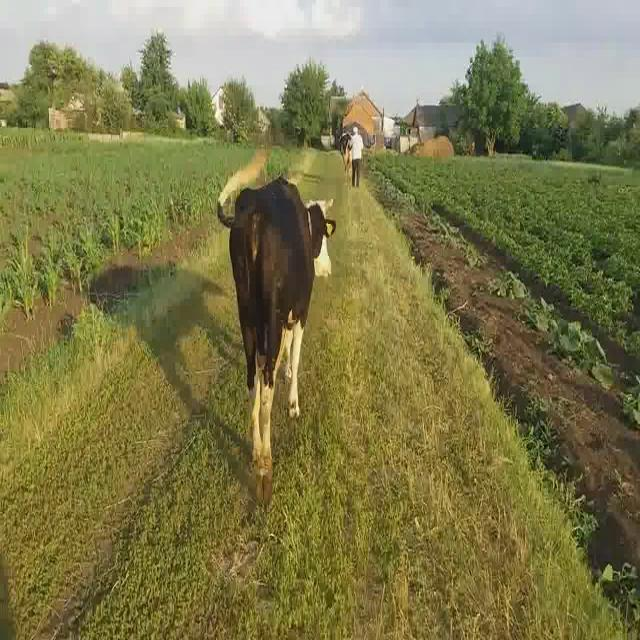cow: (218, 178, 335, 506)
